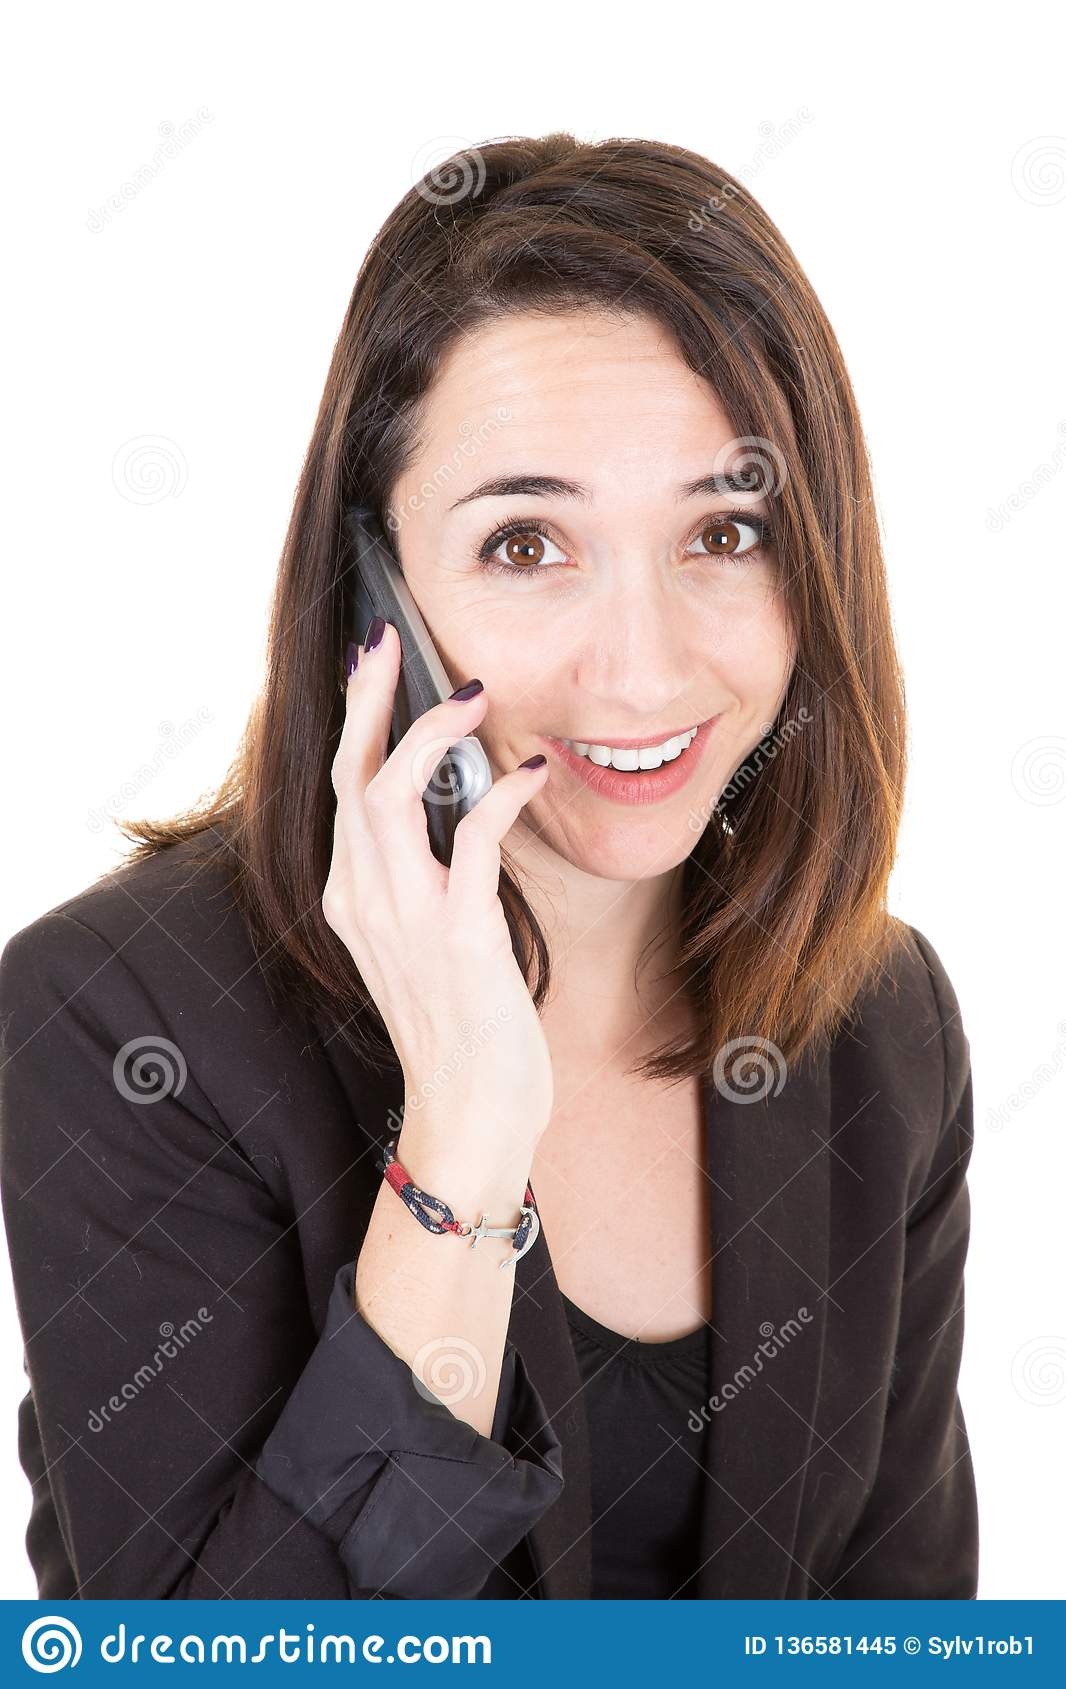phone: (325, 496, 515, 872)
talk: (307, 442, 806, 1144)
